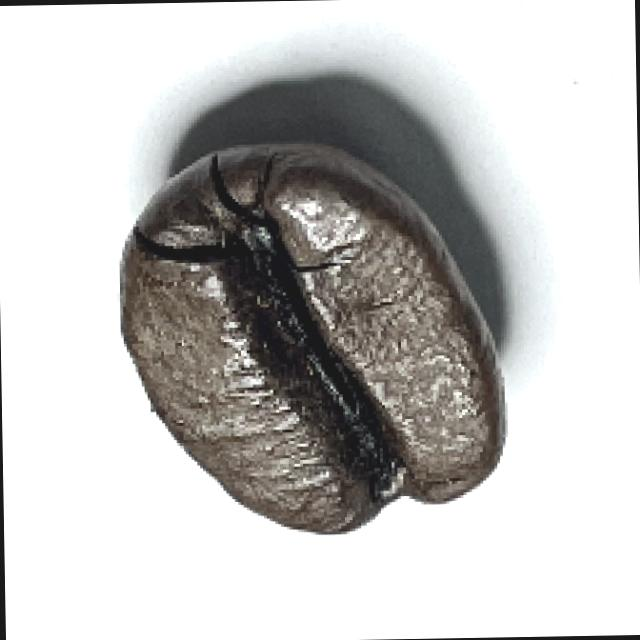bean: (112, 135, 512, 542)
